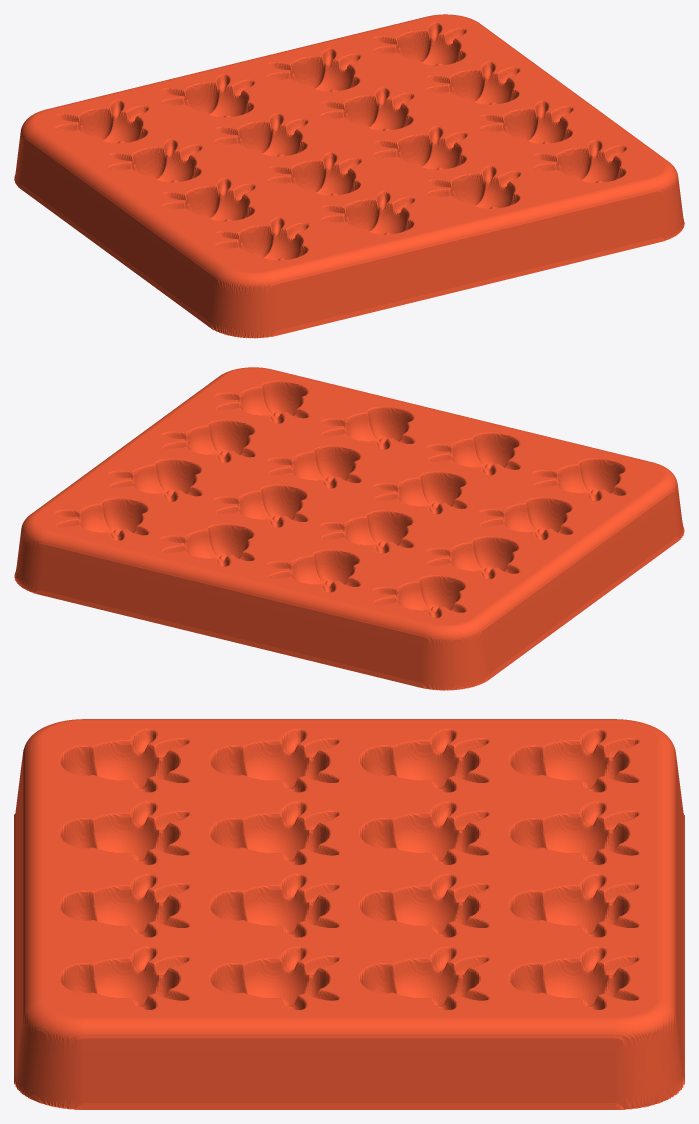
Rendered from mold.glb.
3 renders of one model, top to bottom at view 1: azimuth 30°, elevation 25°; view 2: azimuth 150°, elevation 25°; view 3: azimuth 270°, elevation 25°, orthographic. The views are drawn at different scales.
Visible parts, largest first — view 1: geometry_0; view 2: geometry_0; view 3: geometry_0.
Boxes of the visible parts, box(x1,y1,x2,y2) form: geometry_0: box(14, 14, 684, 338); geometry_0: box(14, 367, 684, 690); geometry_0: box(14, 719, 684, 1109).
Size of the model in its own units: 0.0972 by 0.0114 by 0.086.
